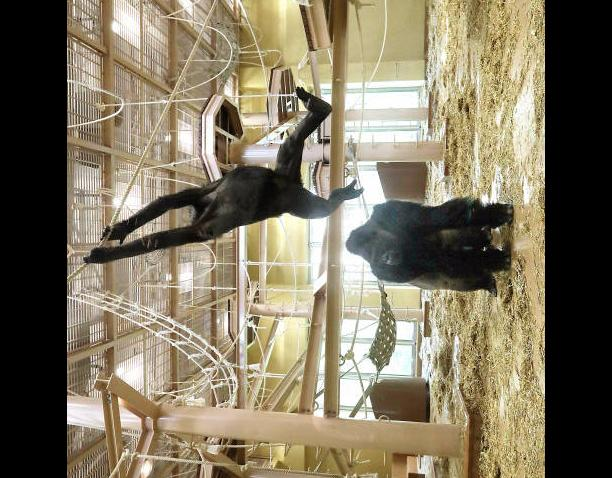gorille_Autres: (338, 167, 532, 308)
